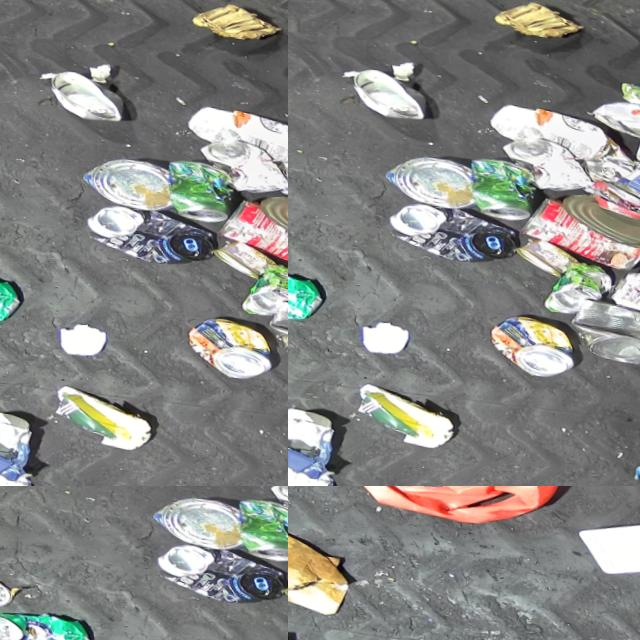can: (512, 185, 640, 264), (78, 196, 210, 263), (380, 194, 512, 261), (148, 535, 280, 602), (176, 307, 267, 375), (478, 305, 569, 373), (210, 187, 288, 266), (560, 287, 640, 360), (494, 128, 590, 188), (192, 130, 288, 189), (74, 147, 168, 206), (376, 145, 470, 204), (144, 486, 238, 545), (555, 183, 640, 244), (160, 153, 231, 220), (462, 151, 533, 218), (39, 63, 121, 119), (341, 61, 423, 117), (533, 251, 609, 310), (229, 492, 288, 558), (230, 253, 288, 312), (604, 132, 640, 218), (0, 605, 84, 640), (206, 231, 272, 274), (508, 229, 574, 272), (600, 258, 640, 320), (585, 91, 640, 134), (258, 289, 288, 362), (253, 185, 288, 246), (288, 264, 316, 320)
non_white_jug: (328, 486, 584, 535)
